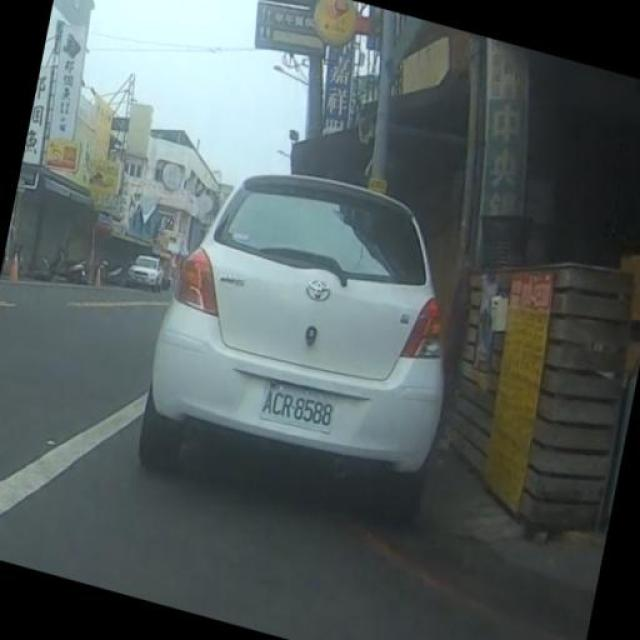Legalparking: (130, 118, 498, 527)
